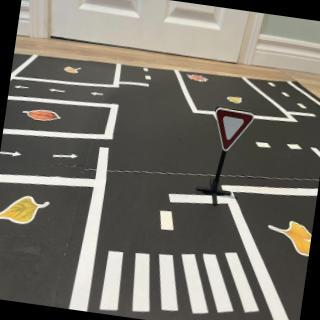road_crosswalk: (97, 229, 274, 320)
road_oneway: (52, 148, 81, 163), (1, 148, 25, 161), (48, 86, 67, 96), (89, 89, 106, 99), (15, 85, 32, 92)
sign_yield: (211, 108, 256, 156)
